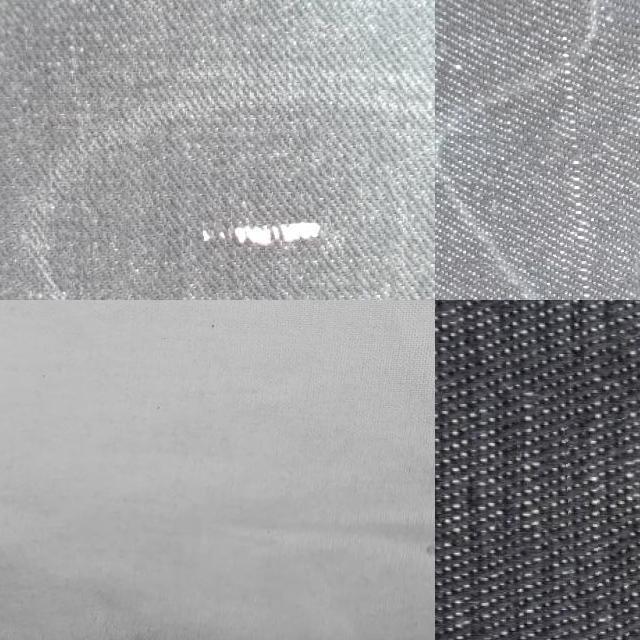Thread_other: (0, 300, 198, 381), (340, 459, 435, 613)
stains: (120, 128, 394, 300), (488, 0, 640, 300), (566, 416, 640, 640)
